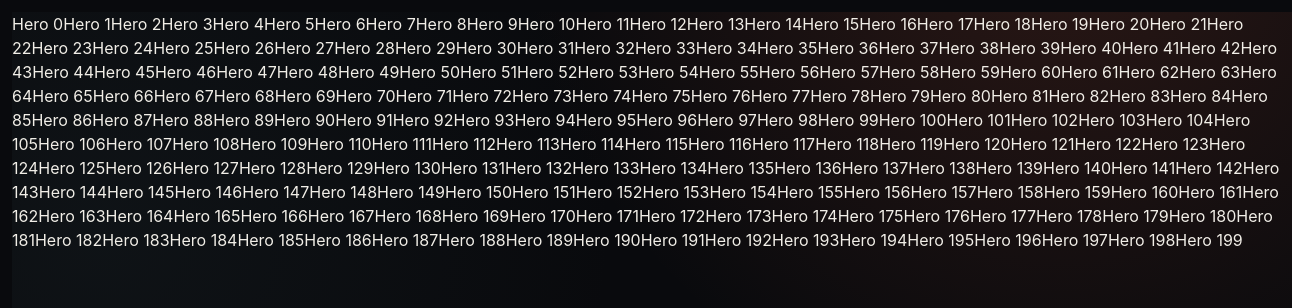
Test: updates only the previous and next anchor across a dense catalog
The image size is (1292, 308).
Focus the link "Hero 0" at (33, 24), box [12,14,63,34]
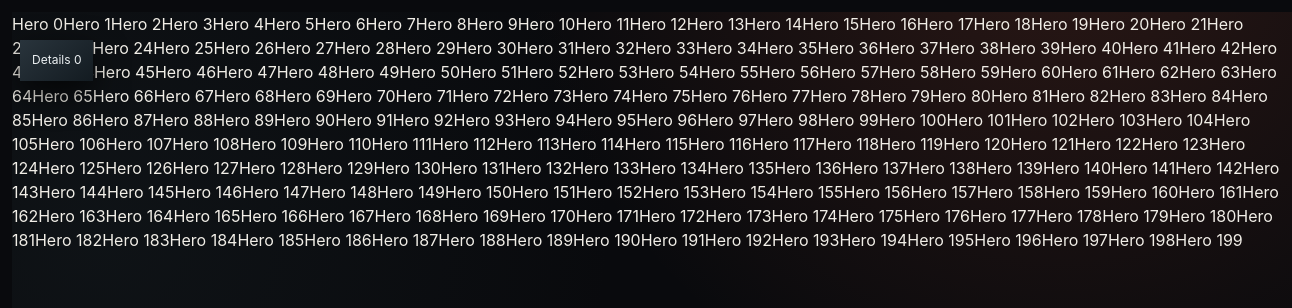
Focus the link "Hero 1" at (84, 24), box [63,14,111,34]
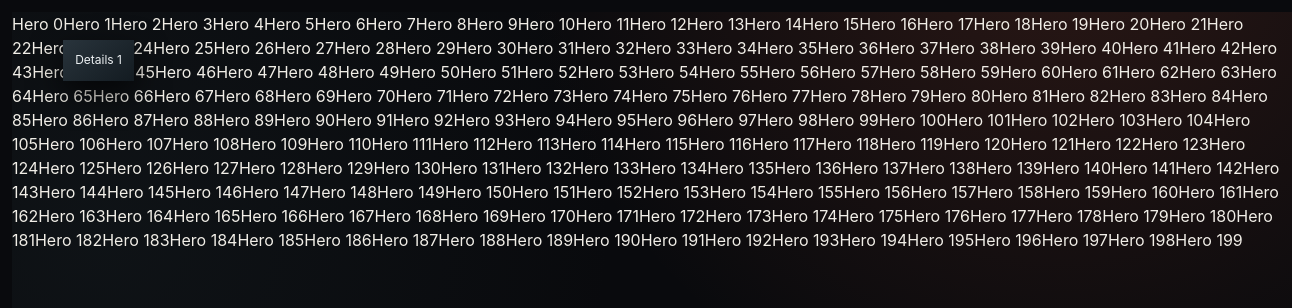
expect the number of tooltips is 1: met, box [63,40,134,81]
expect the tooltip reads "Details 1": met, box [75,52,122,67]
Press Escape
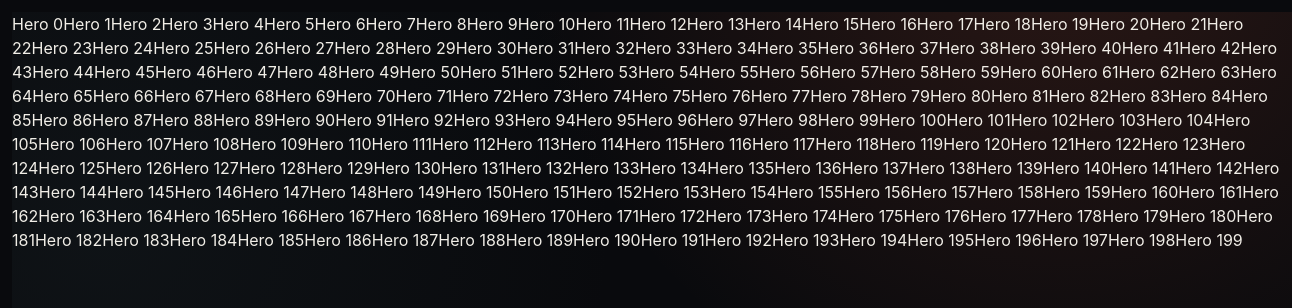
expect the tooltip "Details 1" is gone: met
